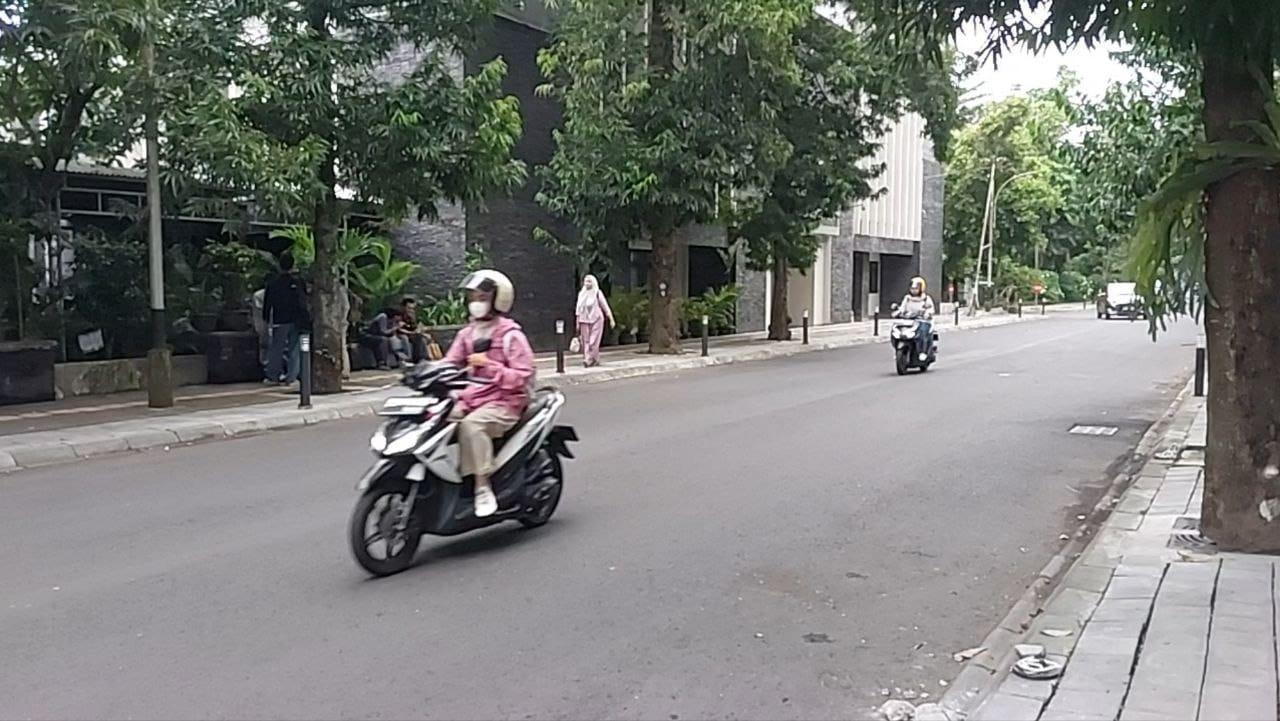helm: (458, 269, 517, 321), (908, 276, 927, 296)
riding: (347, 267, 582, 578), (889, 276, 940, 375)
